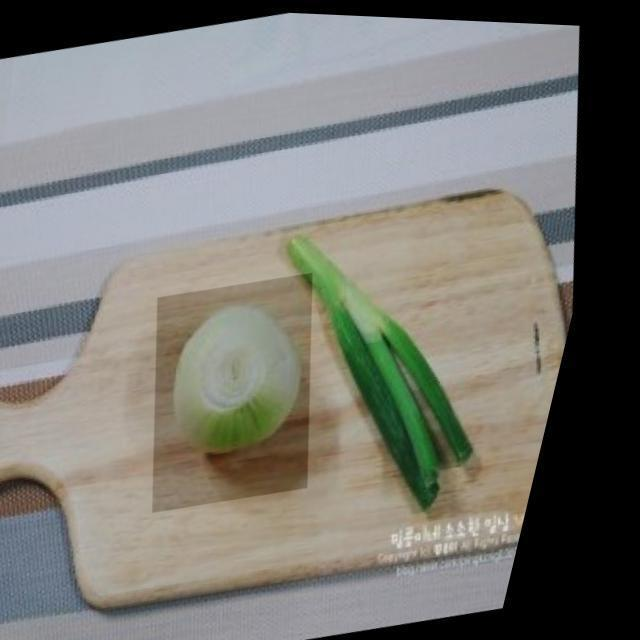Onion: (131, 263, 370, 515)
